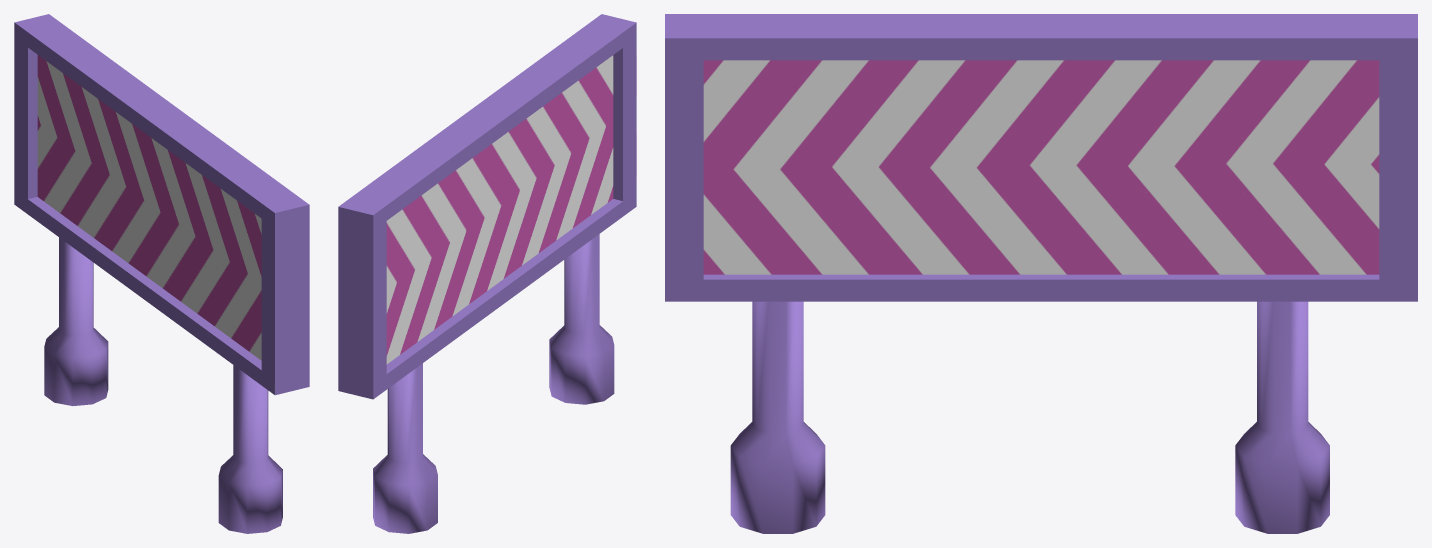
The model's file is cartelflechas.fbx.
3 views of the same model, side by side, from view 1: azimuth 30°, elevation 25°; view 2: azimuth 150°, elevation 25°; view 3: azimuth 270°, elevation 25° (orthographic). The views are drawn at different scales.
Parts seen in each view (by area): view 1: Cube; view 2: Cube; view 3: Cube.
Part boxes in pixels (left/top/right/bottom): Cube: left=14, top=14, right=309, bottom=533; Cube: left=338, top=14, right=636, bottom=533; Cube: left=665, top=14, right=1417, bottom=533.
Size of the model in its own units: 83.07 by 498 by 693.
Materials: 1 (1 with a texture image).
